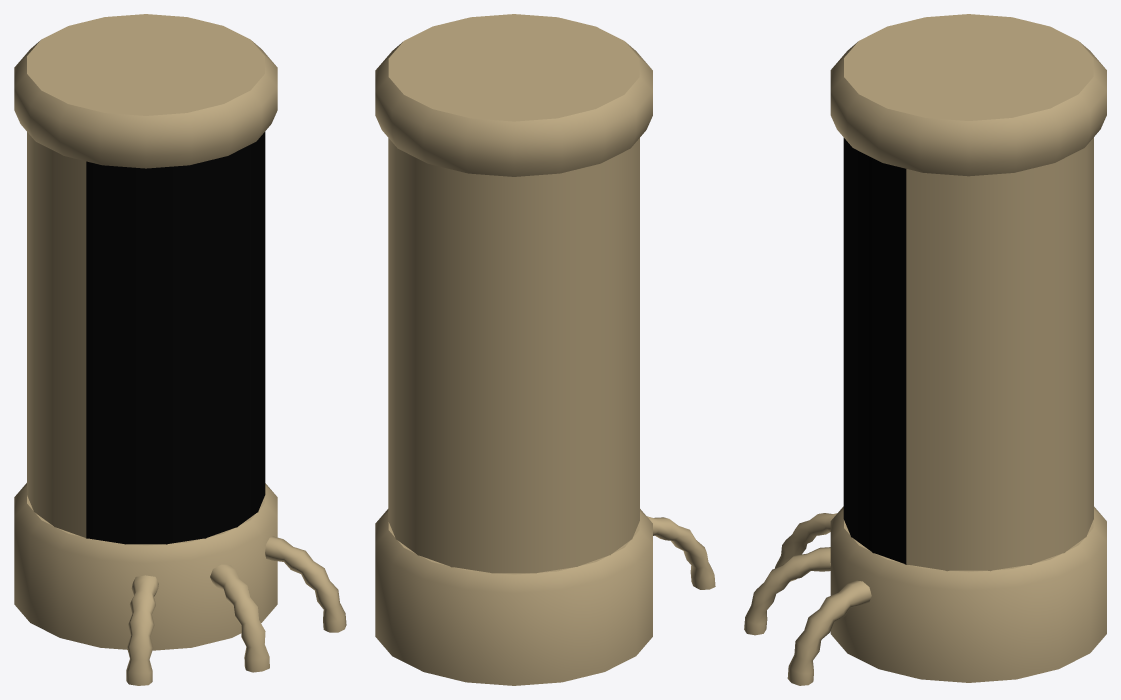
File: Cryo.FBX
3 views of the same model, side by side, from view 1: azimuth 30°, elevation 25°; view 2: azimuth 150°, elevation 25°; view 3: azimuth 270°, elevation 25° (orthographic). The views are drawn at different scales.
Parts seen in each view (by area): view 1: Cylinder002, Tube002; view 2: Cylinder002; view 3: Cylinder002, Tube002.
Boxes of the visible parts, x1=… form: Cylinder002: x1=14, y1=14, x2=346, y2=685; Tube002: x1=86, y1=131, x2=265, y2=544; Cylinder002: x1=375, y1=14, x2=715, y2=685; Cylinder002: x1=744, y1=14, x2=1106, y2=685; Tube002: x1=843, y1=137, x2=906, y2=564.
Bounding box in the file's own units: 1222 × 2628 × 1552.
